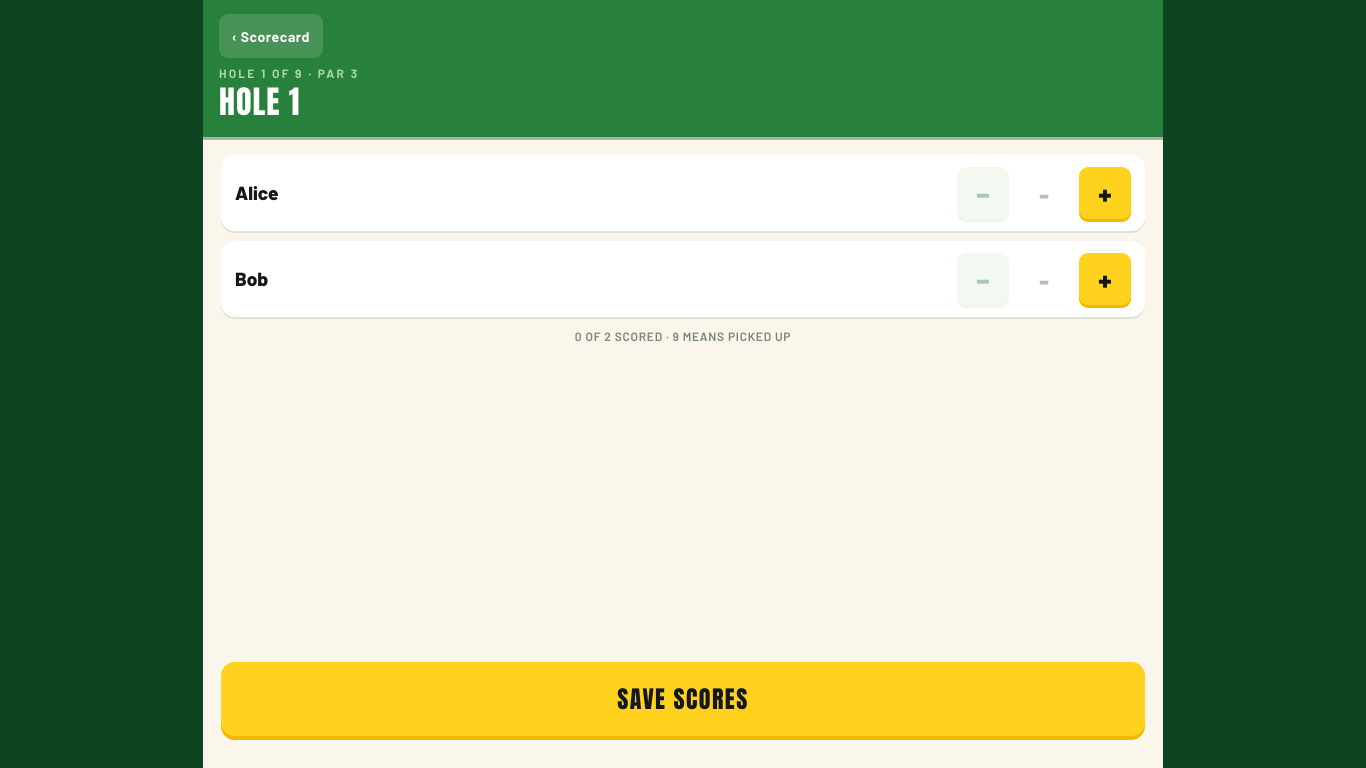
HoleEntry › blocks Save and does not persist when a Player has no Score
The width and height of the screenshot is (1366, 768).
Step 1. Click the button "+" in the row of "Alice" → (1105, 193), box left=1079, top=167, right=1131, bottom=219
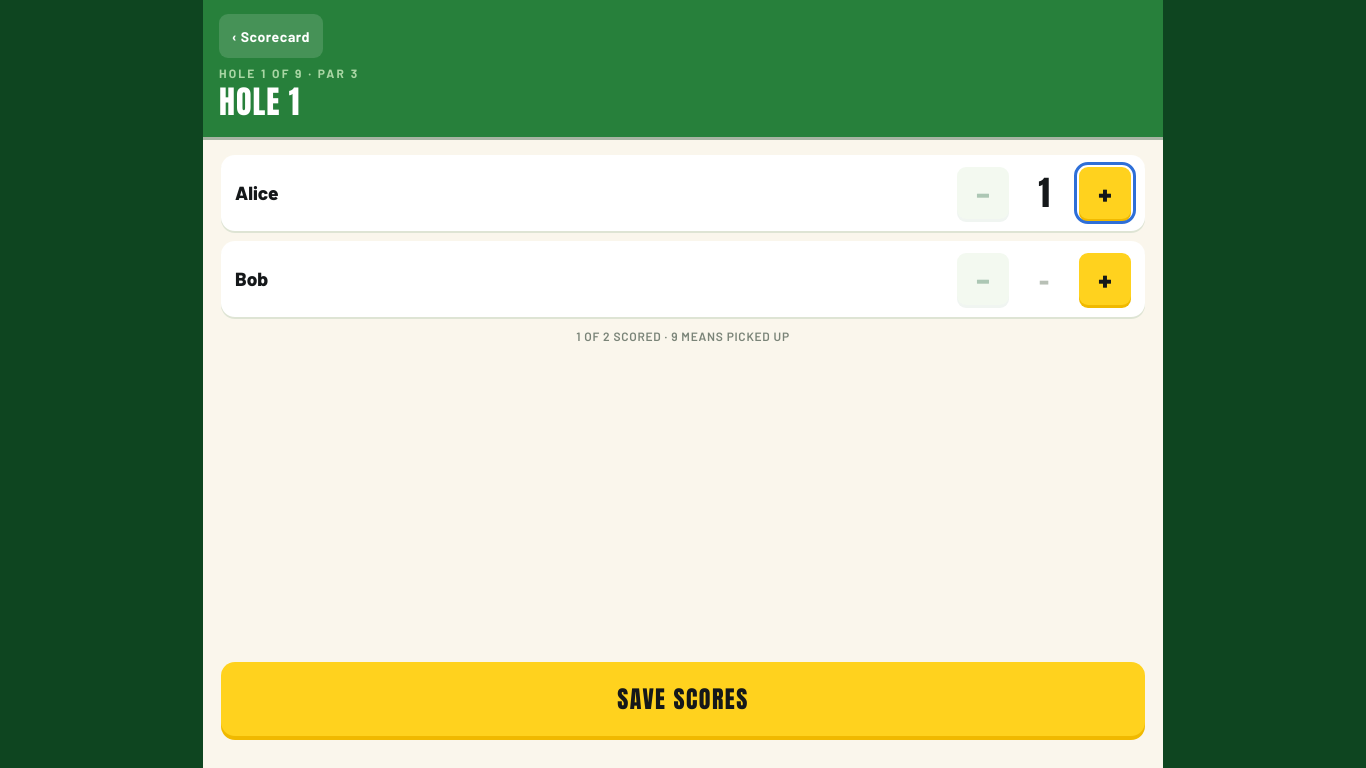
Step 2. Click the button "Save Scores" → (683, 699), box left=221, top=662, right=1145, bottom=736
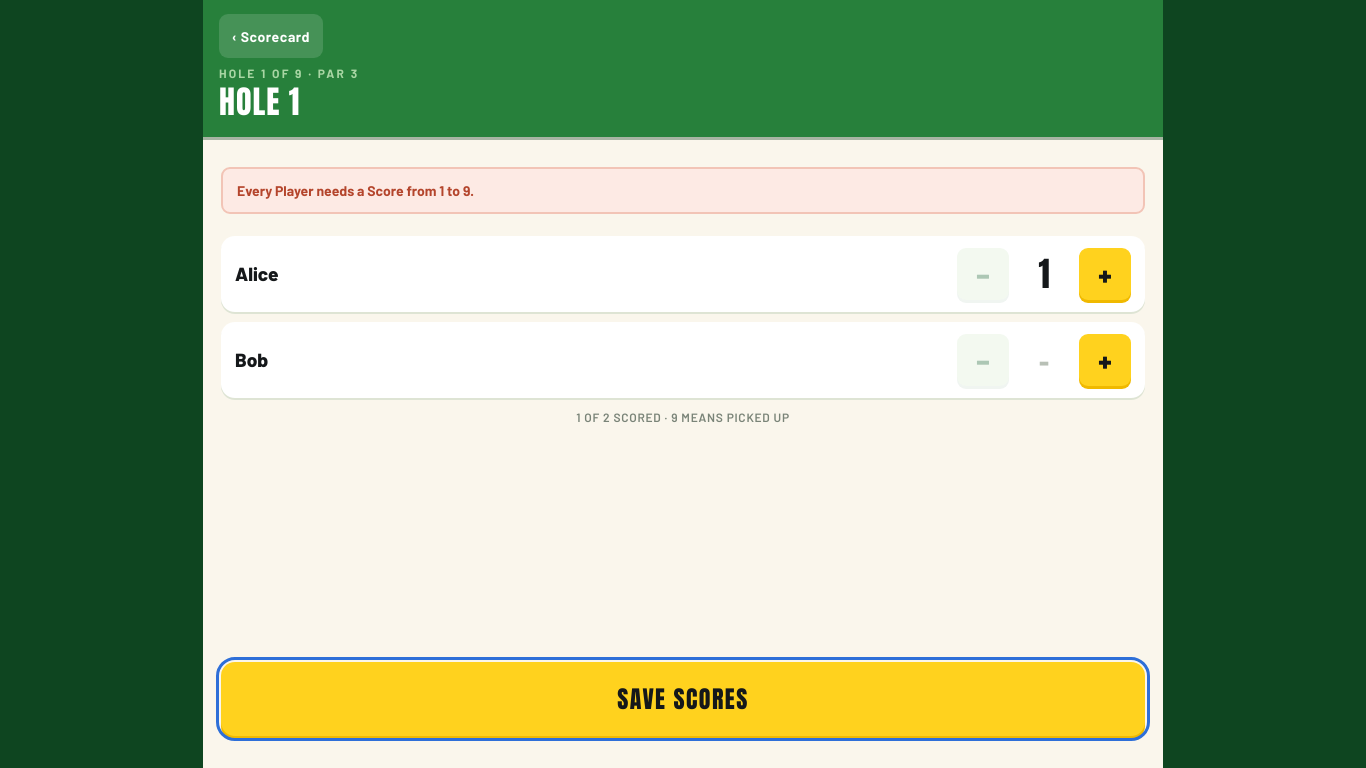
Expected: the message "Every Player needs a Score from 1 to 9." is shown, left=221, top=167, right=1145, bottom=214
